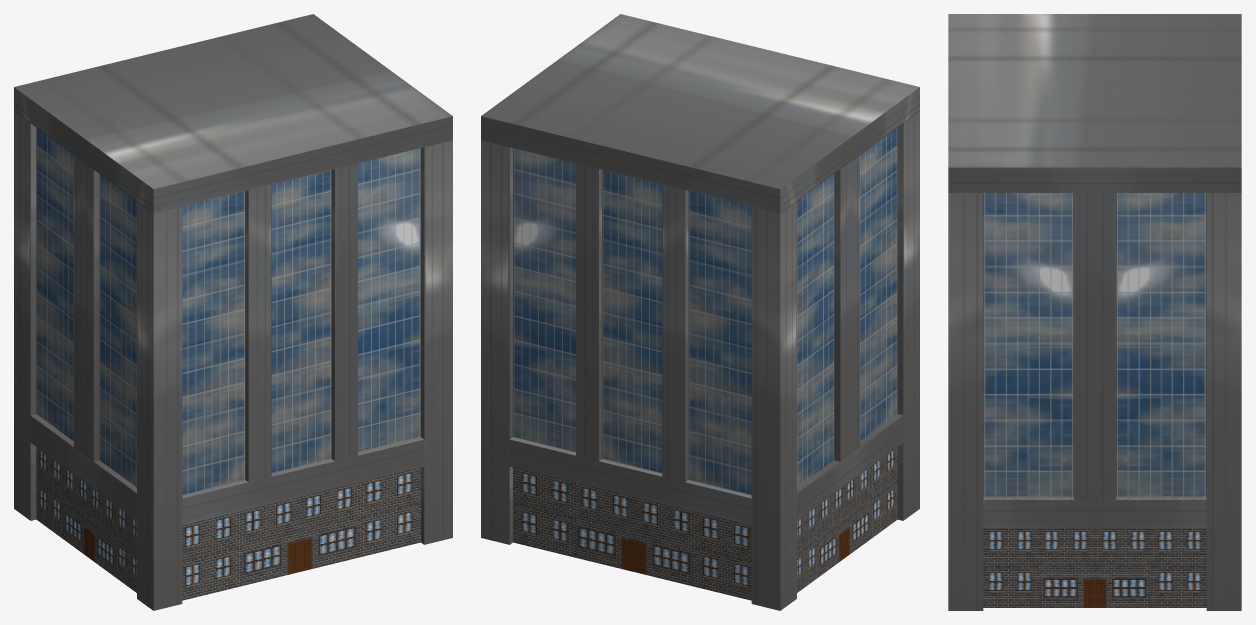
Rendered from Building - 1.obj.
The picture shows the model from 3 angles, left to right: view 1: azimuth 30°, elevation 25°; view 2: azimuth 150°, elevation 25°; view 3: azimuth 270°, elevation 25°; orthographic projection. The views are drawn at different scales.
Parts seen in each view (by area): view 1: Building_1___01; view 2: Building_1___01; view 3: Building_1___01.
Part boxes in pixels (x1,y1,x2,y2): Building_1___01: (14, 14, 452, 610); Building_1___01: (481, 14, 919, 610); Building_1___01: (948, 14, 1241, 610).
Bounding box in the file's own units: 26 × 35 × 21.
